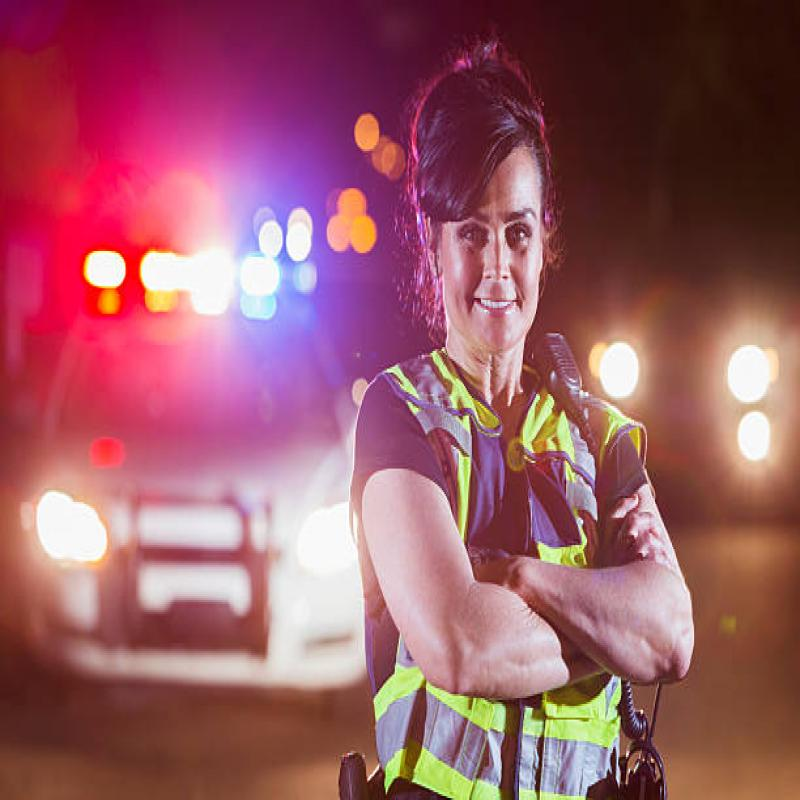AmbulanceSiren: (77, 214, 309, 324)
